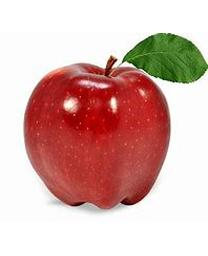apple: (22, 58, 170, 209)
